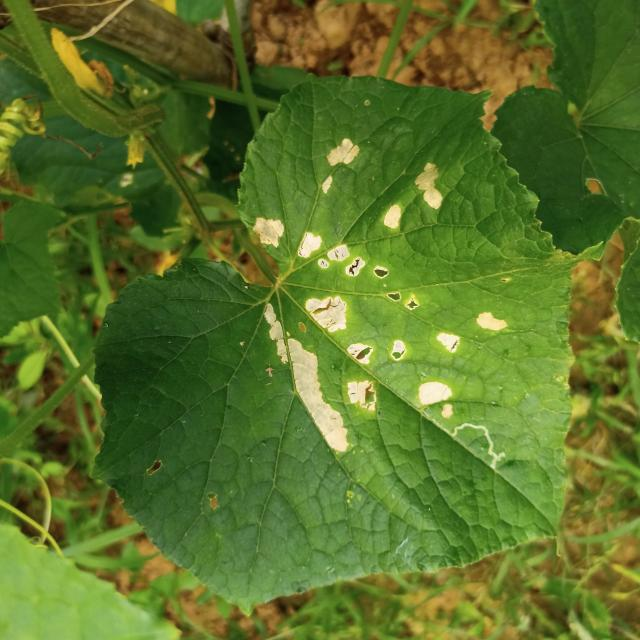disease_cucumber: (258, 289, 386, 459), (384, 286, 520, 421), (242, 212, 420, 313), (311, 134, 456, 236)
